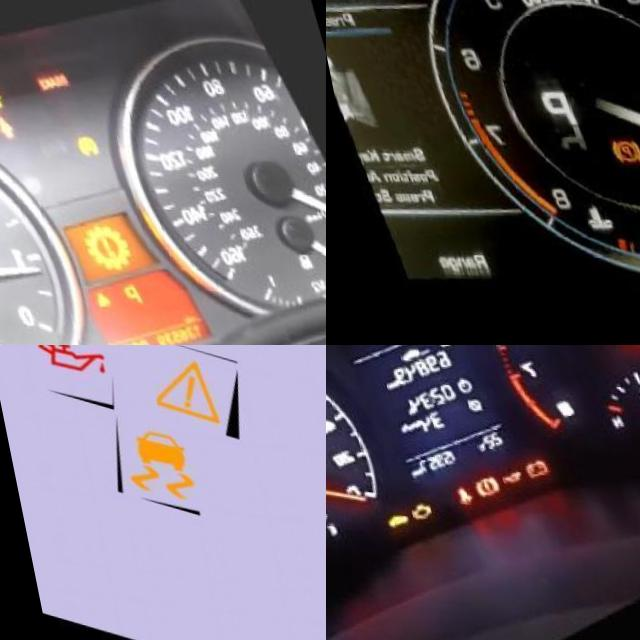Engine cooling system: (565, 199, 602, 234)
High Engine Coolant Temperature: (622, 365, 640, 391)
Seat Belt: (438, 469, 465, 496)
